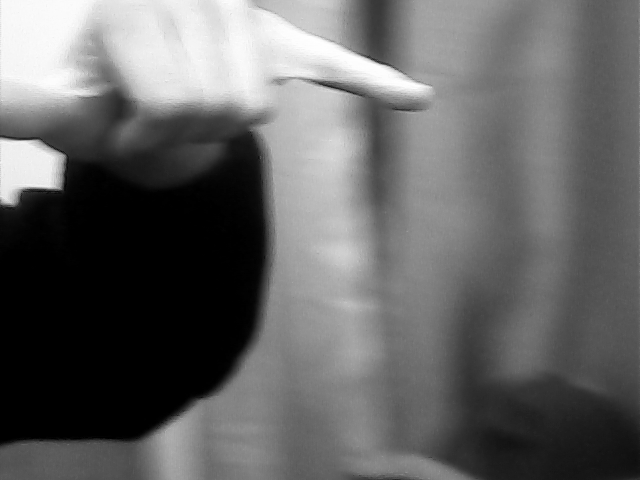aloha: (1, 1, 437, 167)
